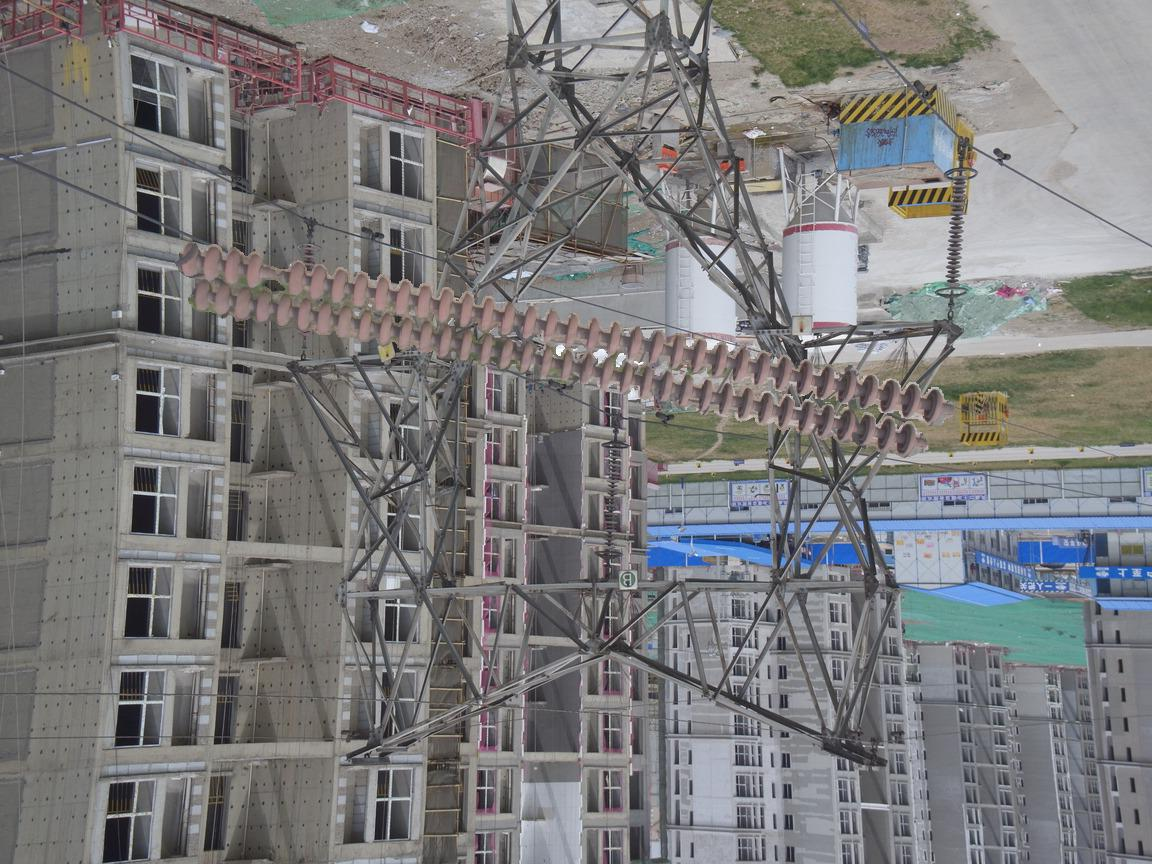insulator: (175, 238, 954, 458), (945, 175, 972, 289), (602, 445, 624, 550)
insulator_stringdrop: (243, 249, 309, 300)
